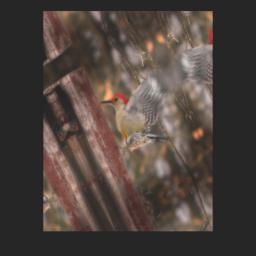Woodpecker: (99, 58, 193, 168)
